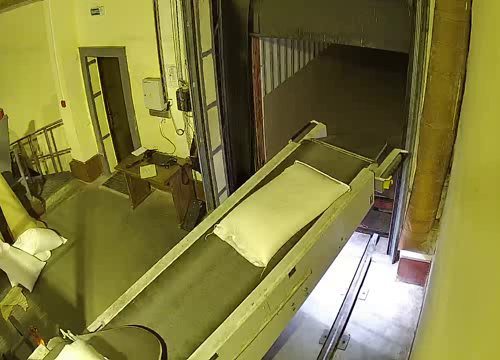bag: (206, 147, 360, 279), (43, 332, 125, 360)
